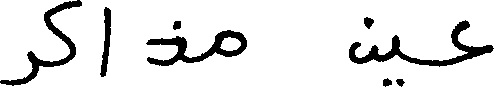ا: (103, 4, 110, 75)
ذ: (146, 19, 187, 66)
ر: (0, 49, 37, 85)
ع: (451, 18, 492, 65)
ك: (42, 0, 79, 67)
م: (214, 27, 244, 57)
ن: (349, 14, 376, 64)
ي: (381, 33, 404, 85)
